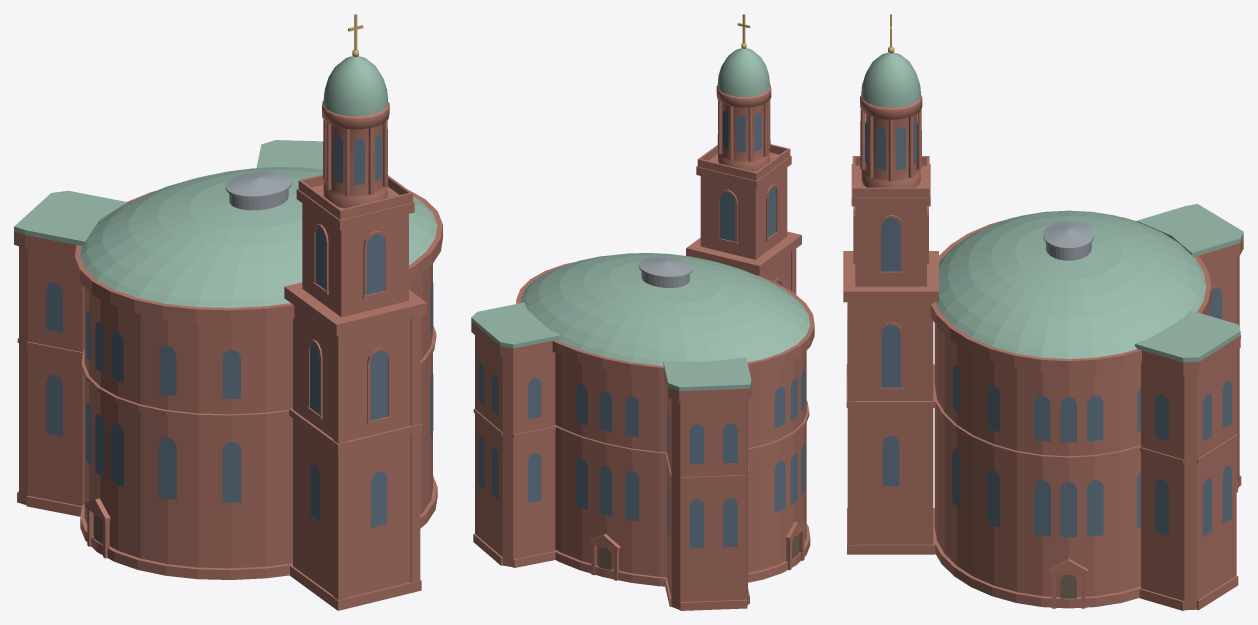
File: frankfurt-paulskirche.glb
The picture shows the model from 3 angles, left to right: view 1: azimuth 30°, elevation 25°; view 2: azimuth 150°, elevation 25°; view 3: azimuth 270°, elevation 25°; orthographic projection. The views are drawn at different scales.
Visible parts, largest first — view 1: Paulskirche; view 2: Paulskirche; view 3: Paulskirche.
Boxes of the visible parts, box(x1,y1,x2,y2) form: Paulskirche: box(14, 14, 442, 610); Paulskirche: box(471, 14, 814, 610); Paulskirche: box(843, 14, 1243, 610).
Size of the model in its own units: 43.75 by 69 by 48.04.
